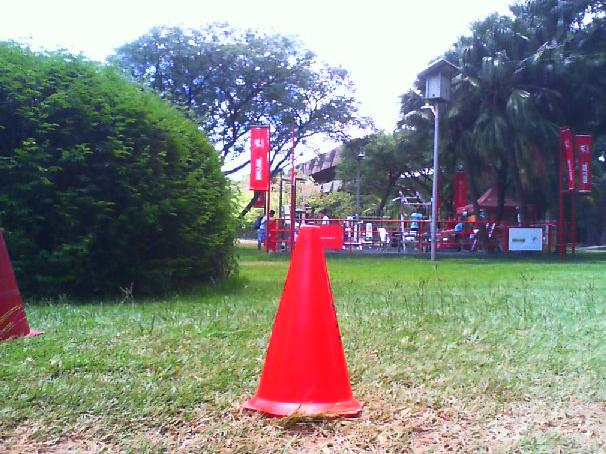0 cone: (245, 226, 361, 418), (0, 224, 44, 345)
